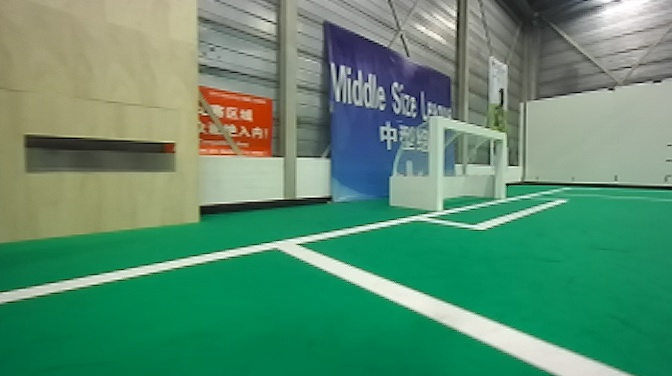goalpost: (423, 108, 450, 219), (488, 128, 511, 206)
